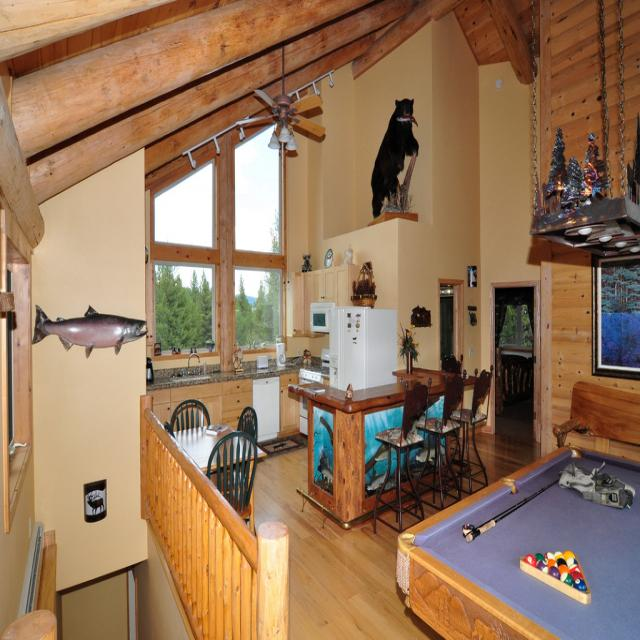Billiard table: (398, 446, 640, 639)
